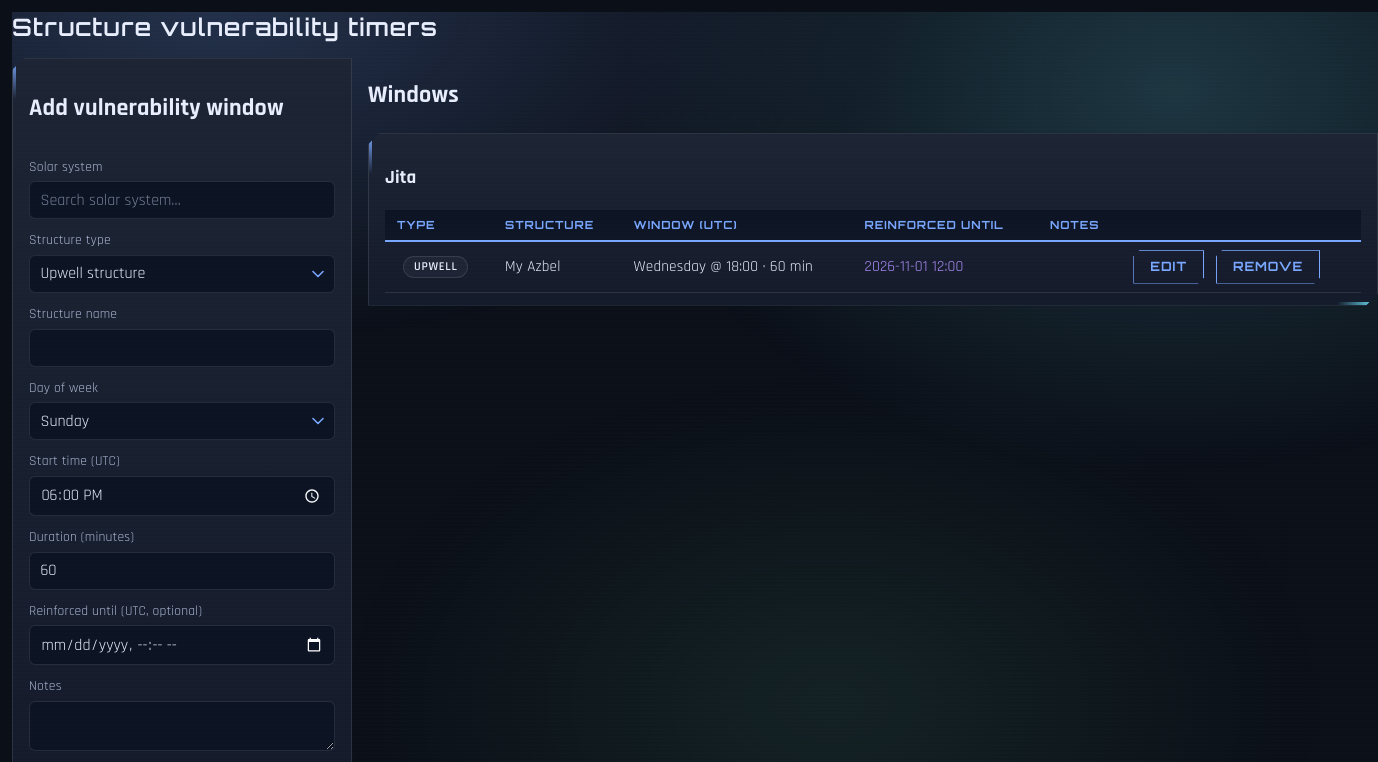
StructureTimers › edits a window in the form
What coordinates should you click on to do the following:
click the button with aria-label "Edit My Azbel"
I would click on:
 (1169, 267)
Its box is 1133,250 -> 1204,284.
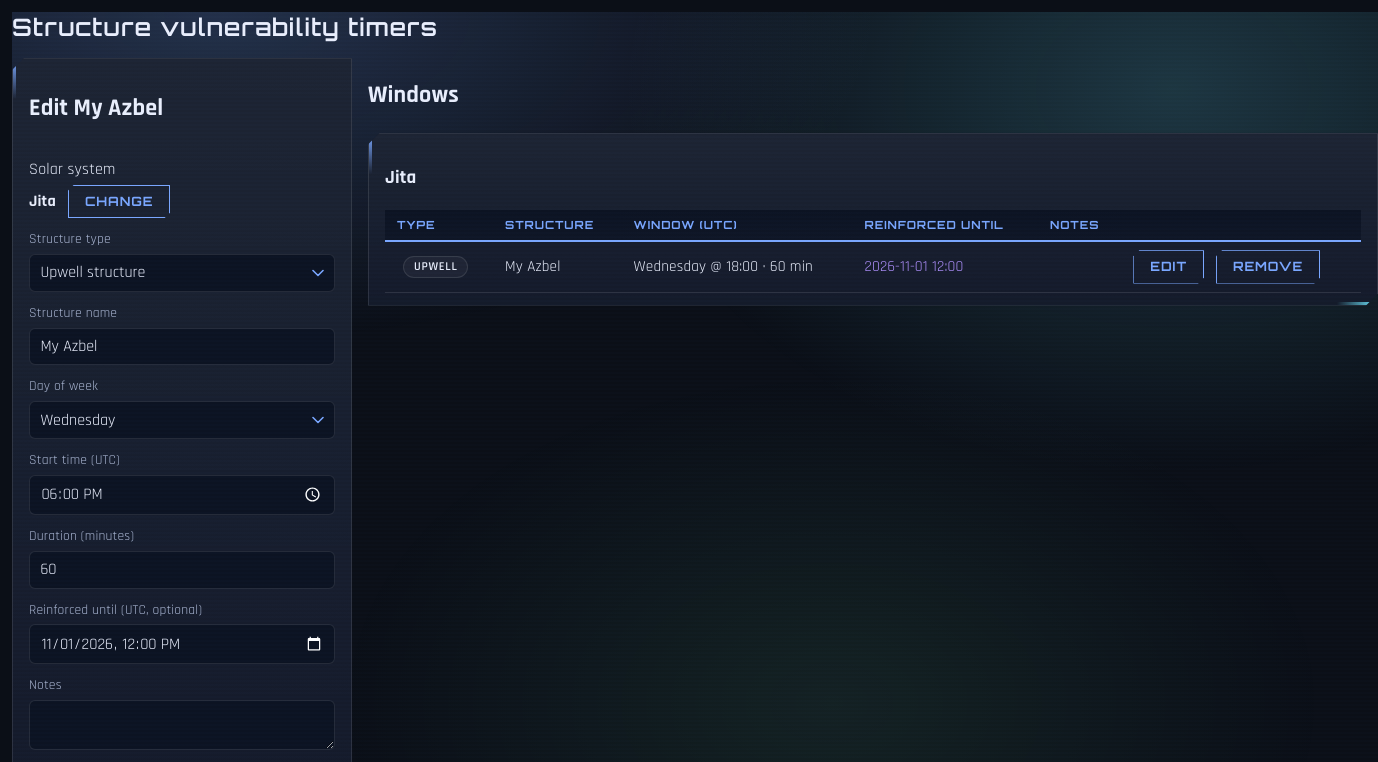
Check: the heading "Edit My Azbel" is shown, box 29,93 -> 164,123
Check: the field labelled "Structure name" holds "My Azbel", box 29,328 -> 335,366
Check: the dropdown labelled "Day of week" shows "Wednesday", box 29,401 -> 335,439
